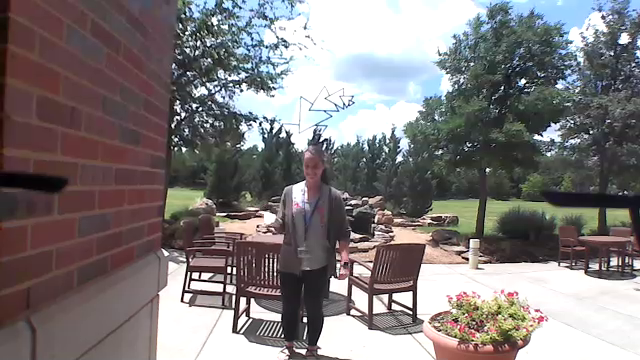land: (250, 205, 281, 233)
